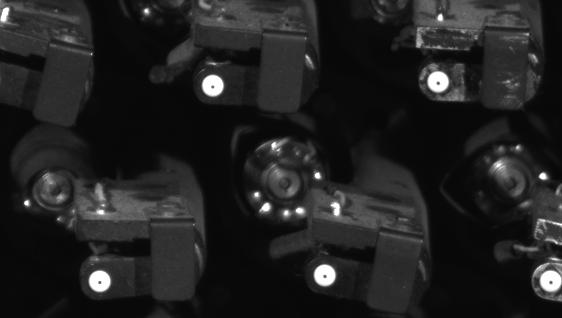fiber: (82, 264, 119, 300), (421, 67, 458, 99), (309, 260, 343, 293), (196, 71, 233, 101), (535, 264, 562, 296)
